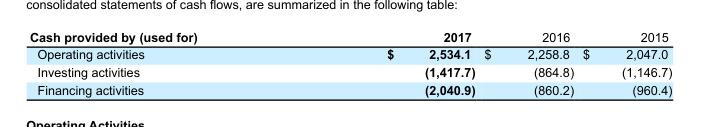table: (28, 29, 671, 96)
table column: (28, 29, 291, 96), (291, 29, 479, 96), (479, 29, 577, 96), (577, 29, 671, 96)
table column header: (28, 29, 671, 45)
table row: (28, 62, 671, 80), (28, 45, 671, 62), (28, 29, 671, 45), (28, 80, 671, 96)
